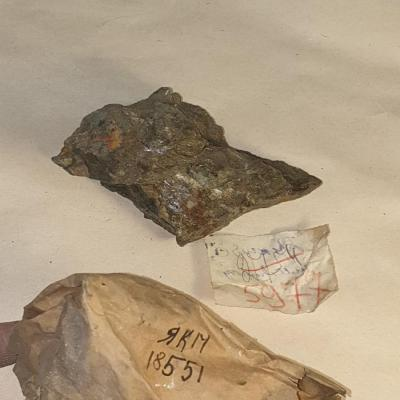mineralogy: (51, 88, 322, 248)
